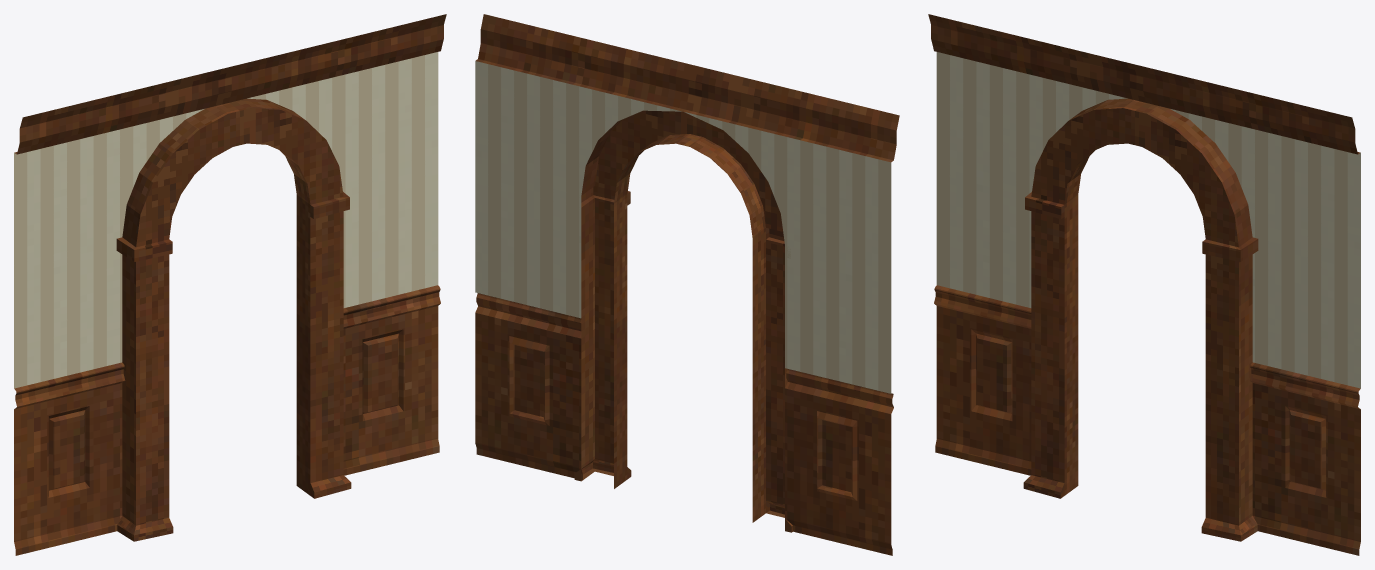
The model's file is Wall.Arch.glb.
3 views of the same model, side by side, from view 1: azimuth 30°, elevation 25°; view 2: azimuth 150°, elevation 25°; view 3: azimuth 330°, elevation 25° (orthographic).
Parts seen in each view (by area): view 1: Plane.003; view 2: Plane.003; view 3: Plane.003.
Boxes of the visible parts, left/top/right/bottom form: Plane.003: left=14, top=14, right=446, bottom=555; Plane.003: left=475, top=14, right=899, bottom=555; Plane.003: left=928, top=14, right=1360, bottom=555.
Size of the model in its own units: 3 by 3 by 0.2428.
Materials: 2 (2 with a texture image).
